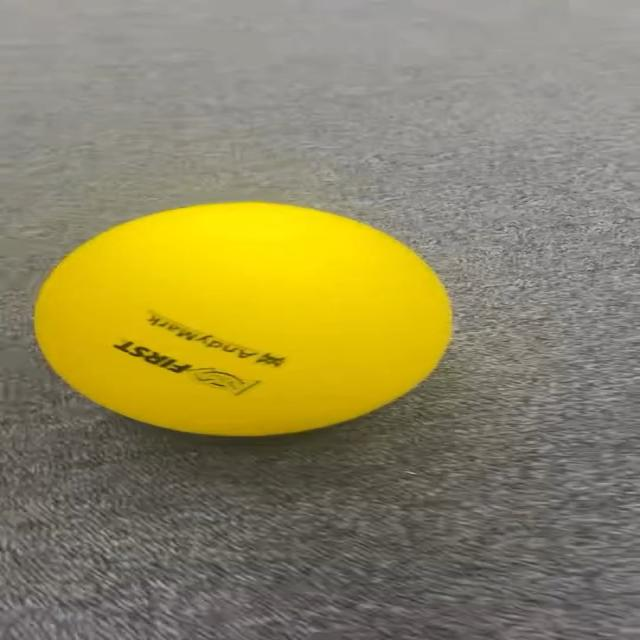Fuels: (36, 203, 451, 433)
